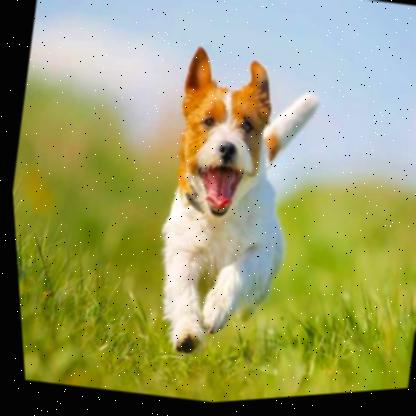dog: (108, 22, 362, 387)
